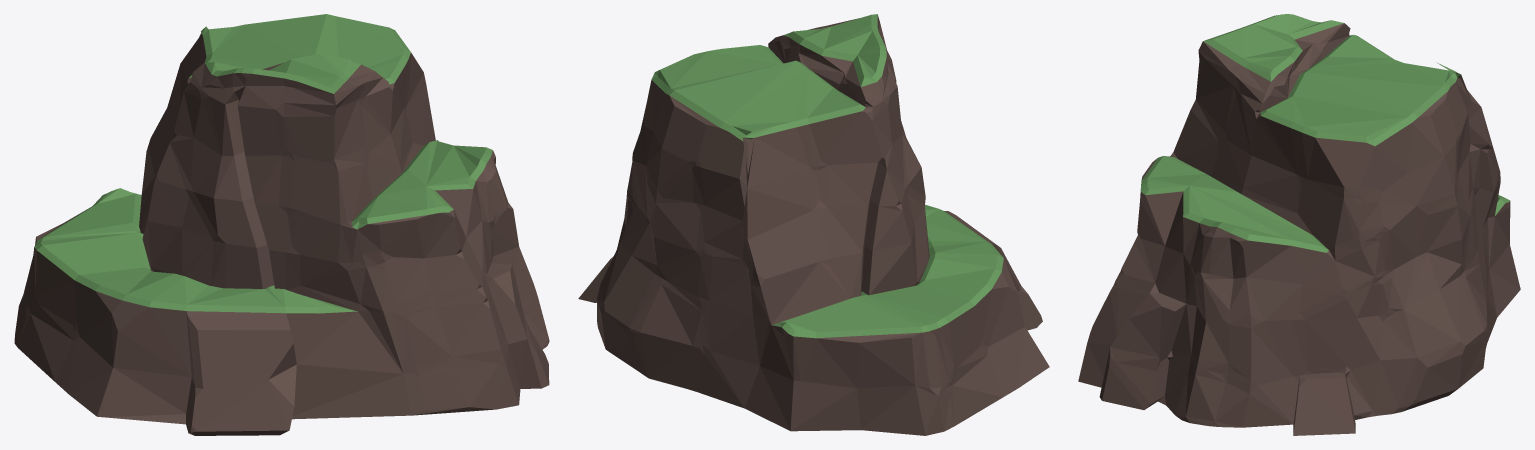
The model's file is Cliff 19.fbx.
3 views of the same model, side by side, from view 1: azimuth 30°, elevation 25°; view 2: azimuth 150°, elevation 25°; view 3: azimuth 270°, elevation 25° (orthographic). The views are drawn at different scales.
Visible parts, largest first — view 1: Cliff 25; view 2: Cliff 25; view 3: Cliff 25.
Part boxes in pixels (x1,y1,x2,y2): Cliff 25: (14, 14, 549, 435); Cliff 25: (578, 14, 1049, 435); Cliff 25: (1078, 14, 1520, 435).
Bounding box in the file's own units: 2.09 × 1.35 × 1.86.
